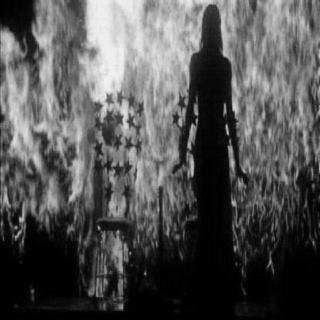Fire: (0, 0, 318, 311)
